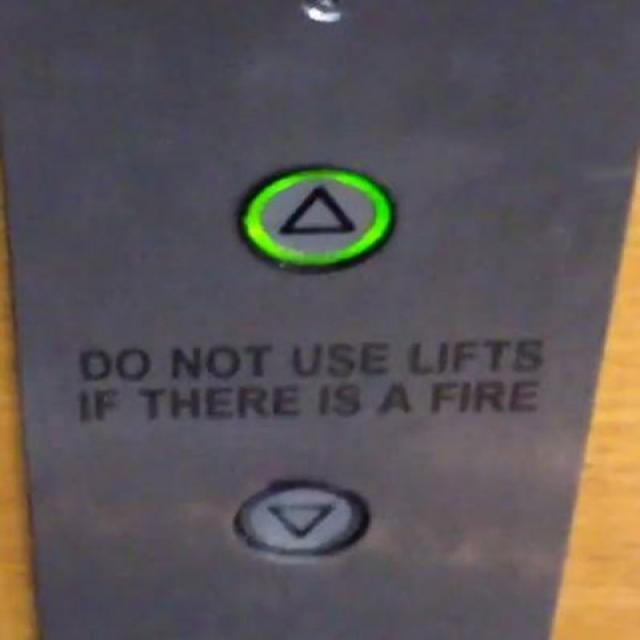down: (228, 474, 369, 558)
up: (235, 162, 396, 272)
